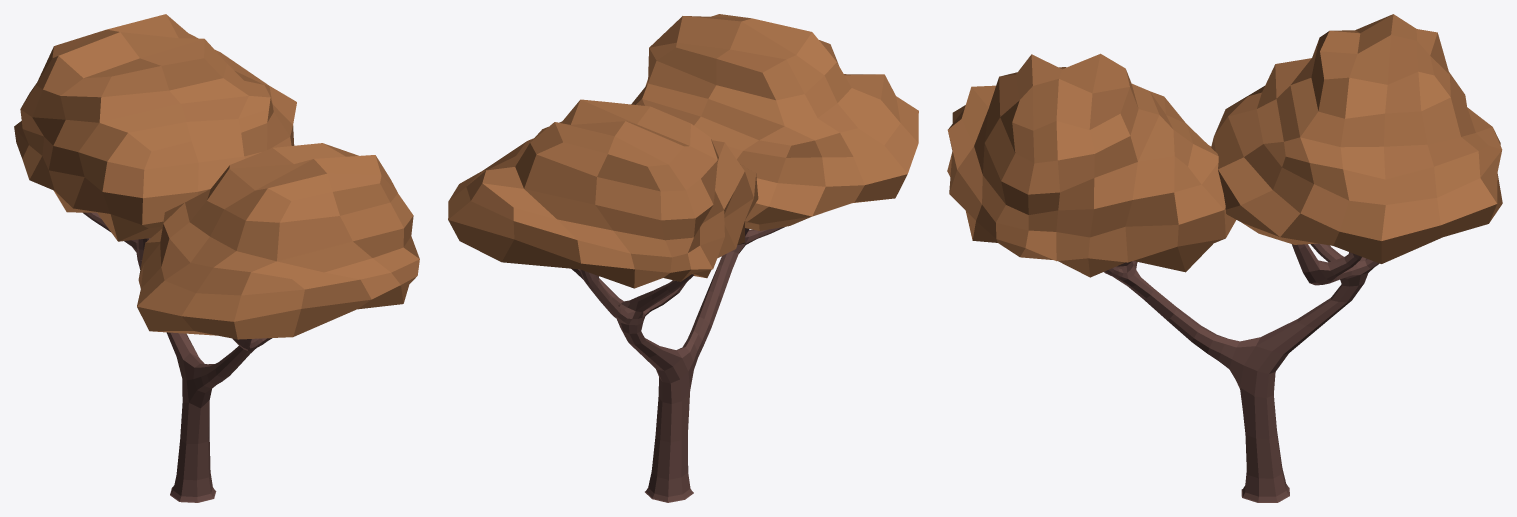
Rendered from CommonTree_Autumn_1.gltf.
3 views of the same model, side by side, from view 1: azimuth 30°, elevation 25°; view 2: azimuth 150°, elevation 25°; view 3: azimuth 270°, elevation 25° (orthographic). The views are drawn at different scales.
Parts seen in each view (by area): view 1: CommonTree_Autumn_1; view 2: CommonTree_Autumn_1; view 3: CommonTree_Autumn_1.
Part boxes in pixels (left/top/right/bottom): CommonTree_Autumn_1: left=14, top=14, right=419, bottom=502; CommonTree_Autumn_1: left=448, top=14, right=918, bottom=502; CommonTree_Autumn_1: left=947, top=14, right=1502, bottom=502.
Bounding box in the file's own units: 1.89 × 2.48 × 2.77.
